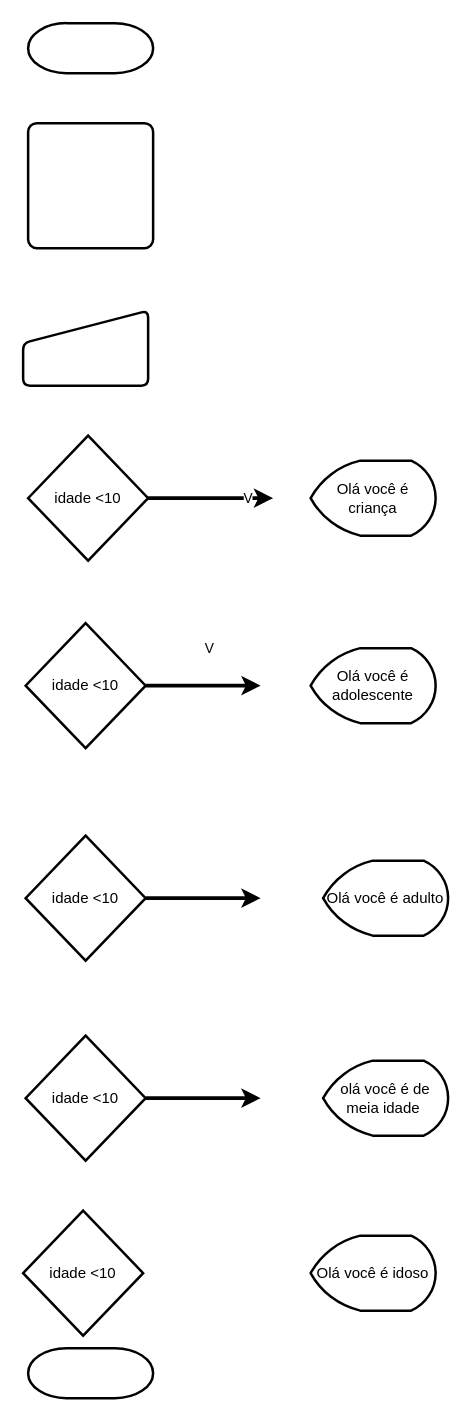
Some shapes in this 470 by 1420 pixel diagram are drawn without their labels. The shapes that lost their labels are listed below. From the top down, each one's centre as x and y in pixels, then its label:
At point (90, 185): "char nome [10] int idade".
At point (85, 347): "nome idade".
